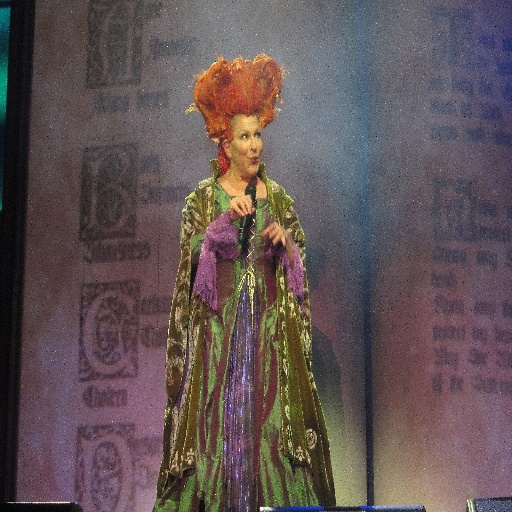hand: (176, 184, 255, 269), (258, 218, 289, 248)
